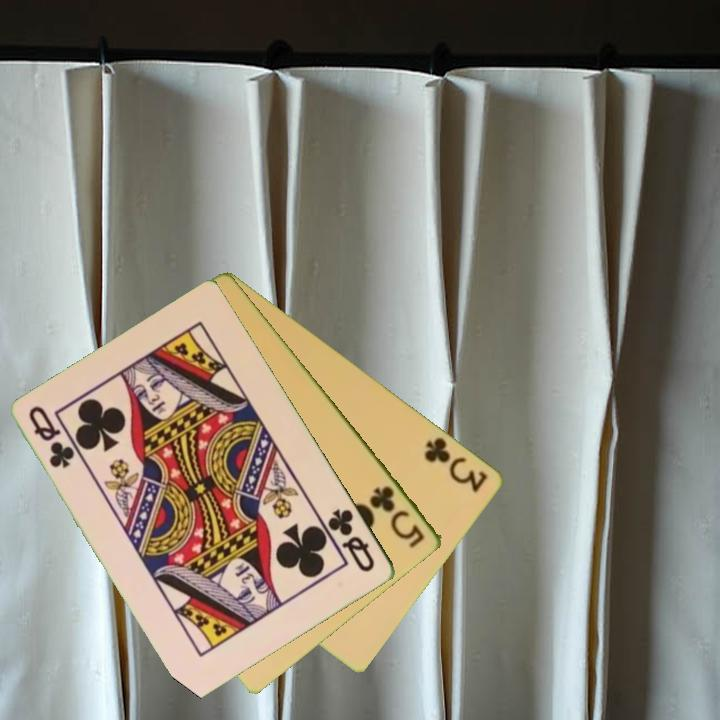3c: (421, 433, 491, 496)
5c: (366, 482, 429, 551)
Qc: (324, 504, 379, 576), (25, 402, 78, 472)
